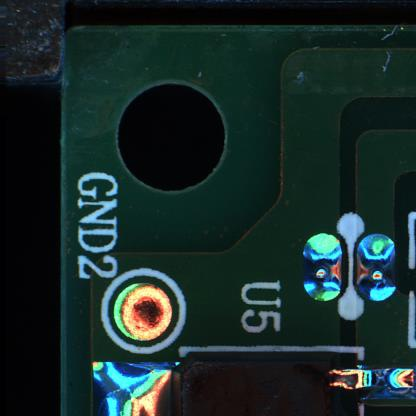spot: (97, 267, 190, 355), (354, 232, 397, 303), (302, 233, 342, 303)
